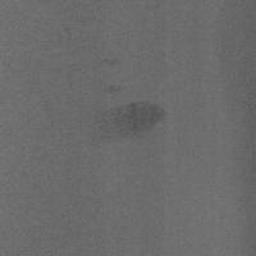Oil spot: (83, 99, 169, 148), (104, 83, 124, 95)
